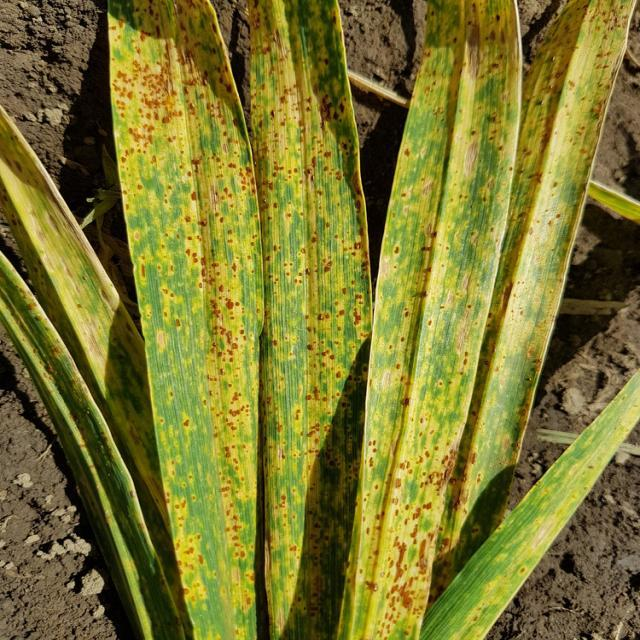wheat-stemrust: (0, 0, 640, 640)
